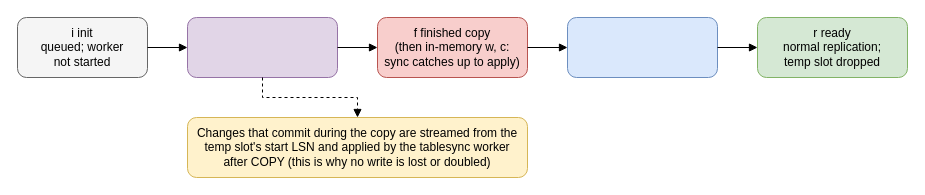
Image size: 925x195. Some labels were removed from this diagram. Each missing label, with the box of its shape:
d data copy temp slot + snapshot, COPY running: (186, 16, 338, 78)
s sync done sync worker exits; apply watches until that LSN: (566, 16, 718, 78)
